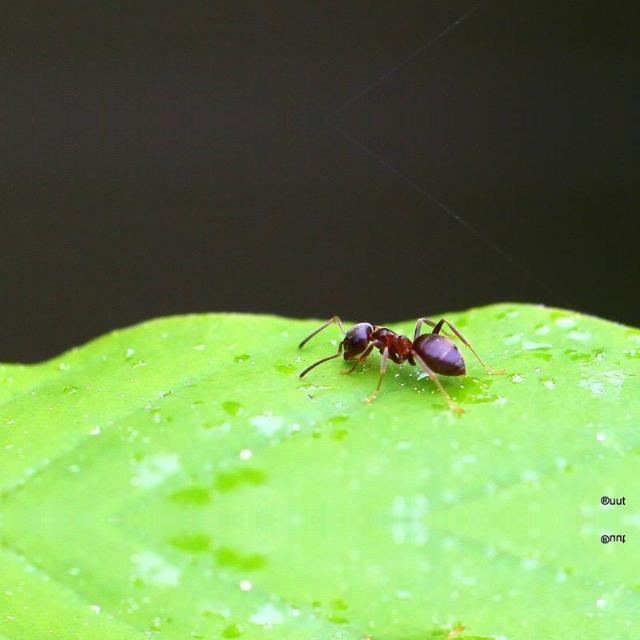Lasius: (290, 286, 492, 406)
